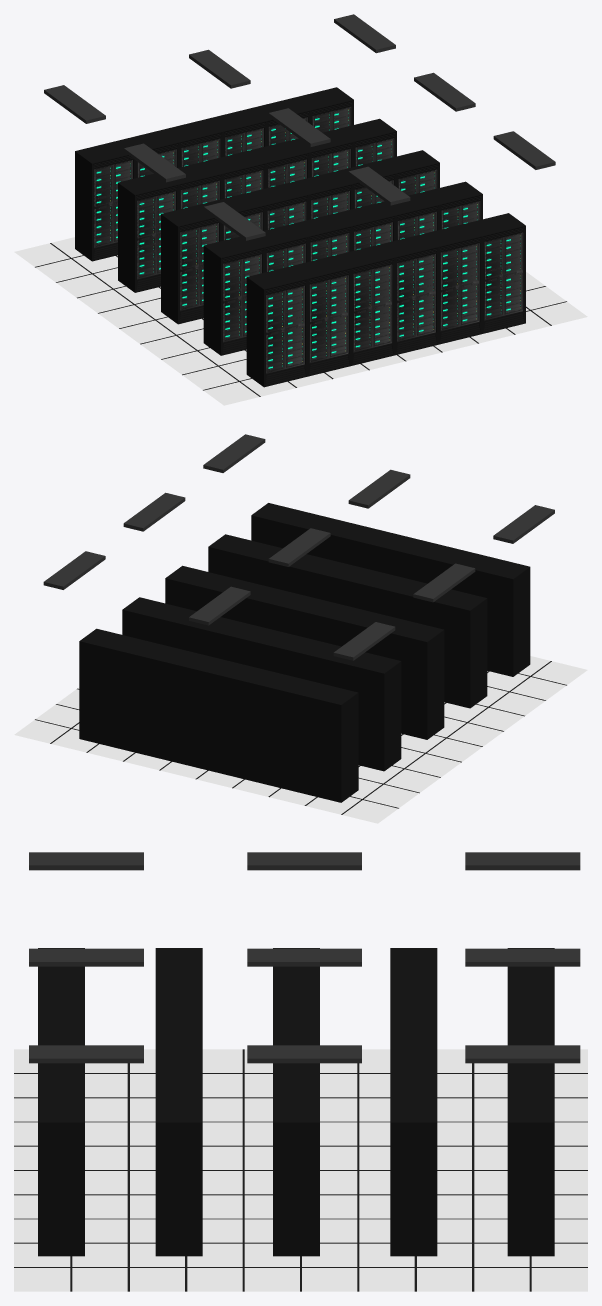
3 views of the same model, one above another, from view 1: azimuth 30°, elevation 25°; view 2: azimuth 150°, elevation 25°; view 3: azimuth 270°, elevation 25° (orthographic). The views are drawn at different scales.
Parts seen in each view (by area): view 1: Cluster, Plane.001, LampTeto.003, Plane; view 2: Cluster, Plane.001, LampTeto.003, Plane; view 3: Plane.001, Cluster, LampTeto.003, Plane.
Part boxes in pixels (x1,y1,x2,y2): Cluster: (75, 87, 525, 387); Plane.001: (14, 237, 587, 405); LampTeto.003: (44, 14, 555, 240); Plane: (35, 243, 566, 396); Cluster: (79, 503, 530, 802); Plane.001: (14, 656, 587, 823); LampTeto.003: (43, 434, 554, 660); Plane: (35, 661, 566, 814); Plane.001: (14, 1049, 587, 1291); Cluster: (38, 948, 554, 1256); LampTeto.003: (29, 852, 580, 1063); Plane: (14, 1049, 587, 1291).
Size of the model in its own units: 44 by 18.2 by 44.
8 materials, 1 textured.
